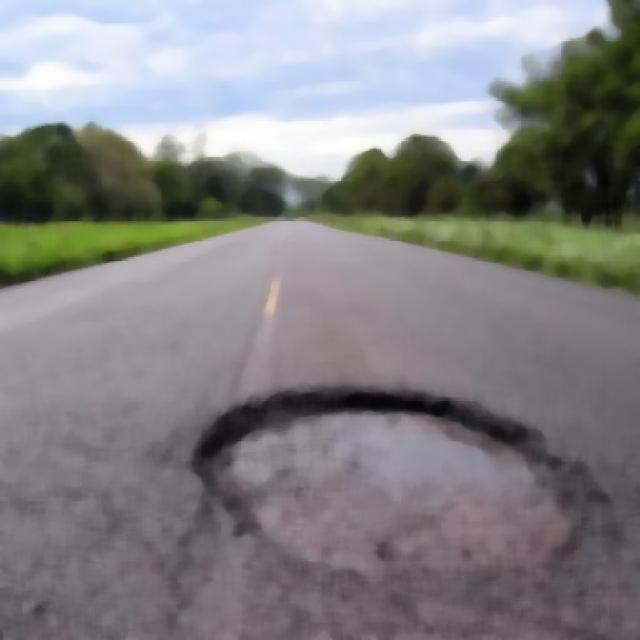Pothole: (208, 394, 567, 638)
